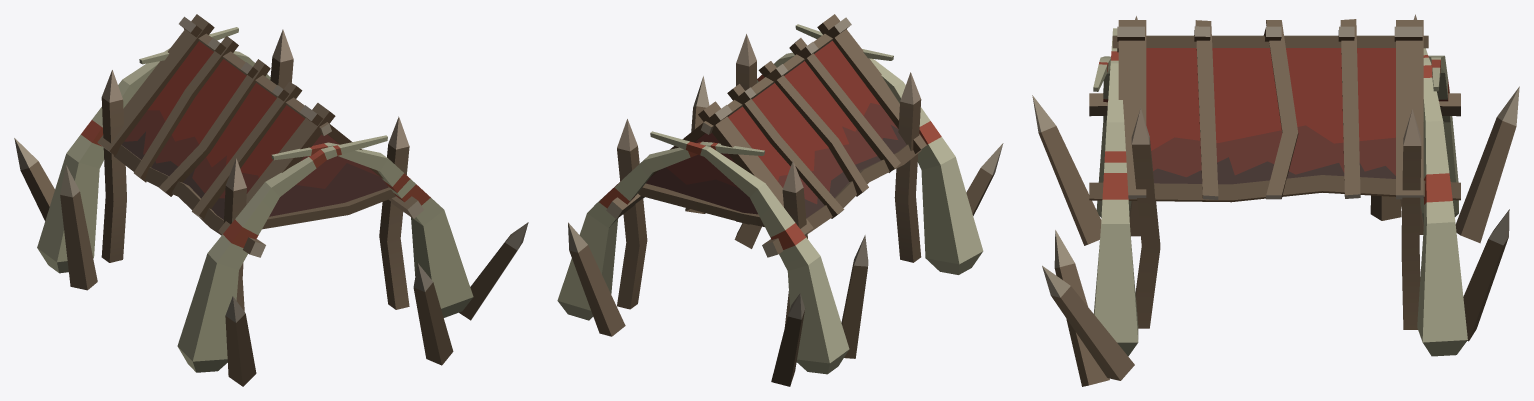
The model's file is MediumLess_SF_Bld_Goblin_House_02.fbx.
3 views of the same model, side by side, from view 1: azimuth 30°, elevation 25°; view 2: azimuth 150°, elevation 25°; view 3: azimuth 270°, elevation 25° (orthographic). The views are drawn at different scales.
Parts seen in each view (by area): view 1: SF_Bld_Goblin_House_02; view 2: SF_Bld_Goblin_House_02; view 3: SF_Bld_Goblin_House_02.
Part boxes in pixels (x1,y1,x2,y2): SF_Bld_Goblin_House_02: [14, 14, 528, 386]; SF_Bld_Goblin_House_02: [557, 14, 1003, 386]; SF_Bld_Goblin_House_02: [1032, 14, 1519, 386].
Size of the model in its own units: 676 by 540 by 777.
